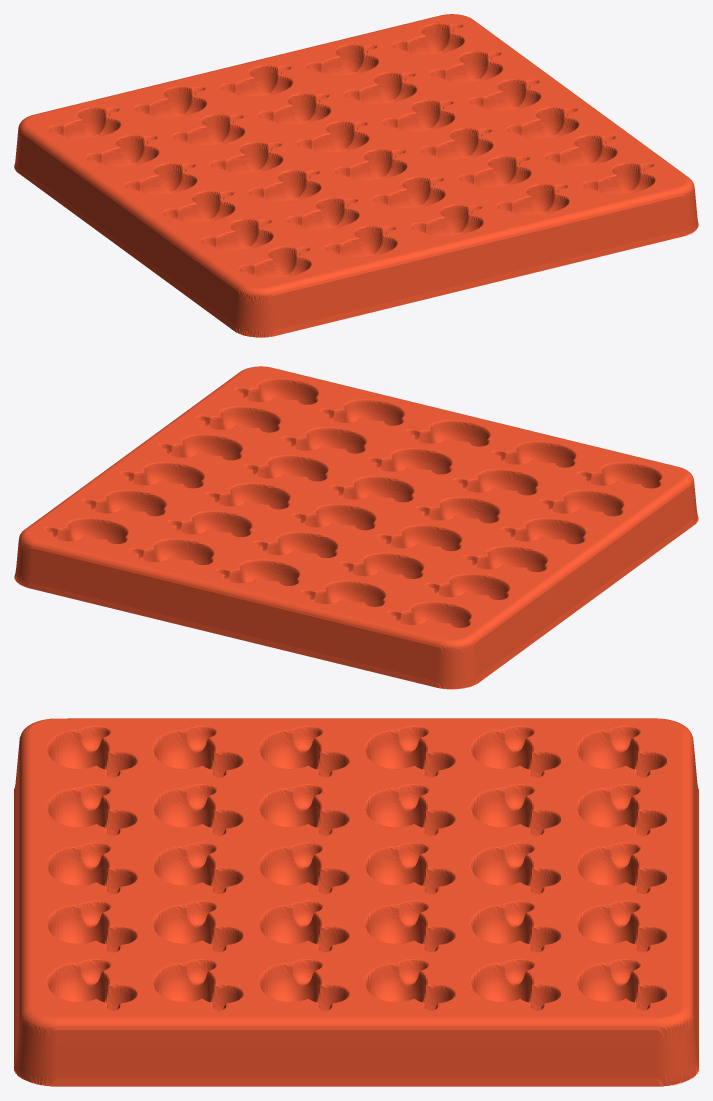
The model's file is mold.glb.
3 renders of one model, top to bottom at view 1: azimuth 30°, elevation 25°; view 2: azimuth 150°, elevation 25°; view 3: azimuth 270°, elevation 25°, orthographic. The views are drawn at different scales.
Parts seen in each view (by area): view 1: geometry_0; view 2: geometry_0; view 3: geometry_0.
Part boxes in pixels (x1,y1,x2,y2): geometry_0: [14, 14, 698, 337]; geometry_0: [14, 366, 698, 689]; geometry_0: [14, 718, 698, 1086].
Size of the model in its own units: 0.1563 by 0.0145 by 0.1449.
